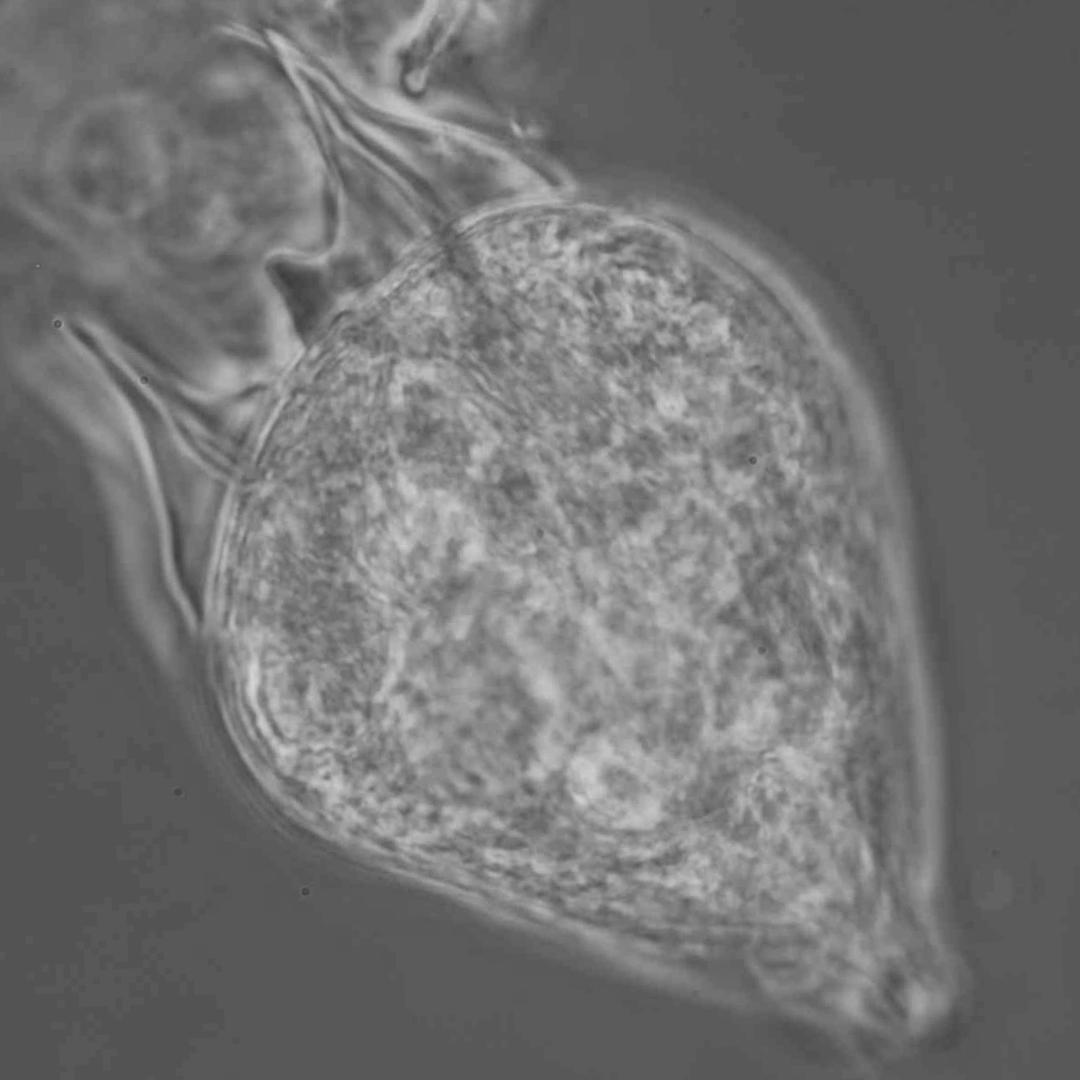podolampas_bipes: (57, 26, 959, 1076)
